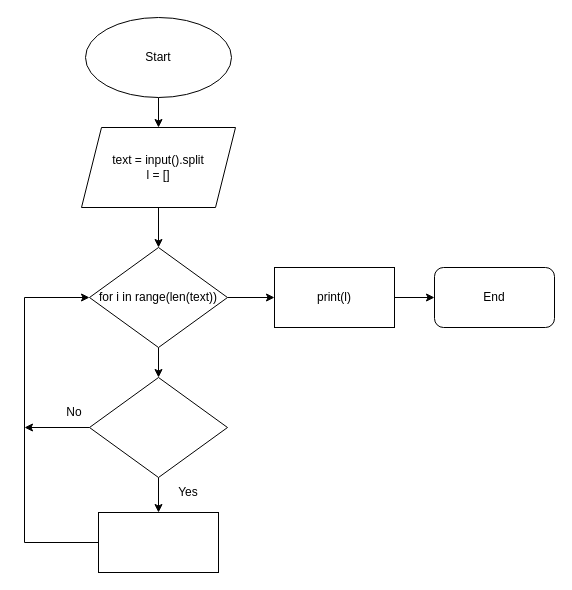
The diagram is 572 pixels wide and 590 high, and some of its shapes have lost their labels. Here are the shapes that lost their labels. From the top down, the box of each, then its label:
(88, 376, 228, 478): if len(text[i]) <= 3
(98, 512, 218, 572): l.append(text[i])
